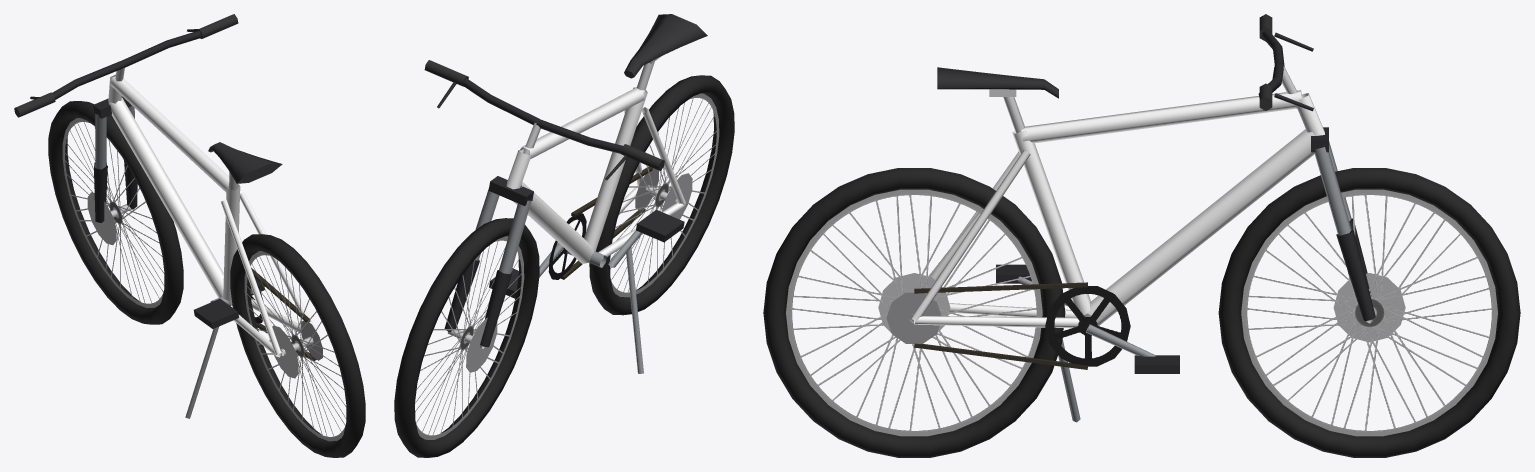
File: mtb_lean.glb
The picture shows the model from 3 angles, left to right: view 1: azimuth 30°, elevation 25°; view 2: azimuth 150°, elevation 25°; view 3: azimuth 270°, elevation 25°; orthographic projection. The views are drawn at different scales.
Parts seen in each view (by area): view 1: bike; view 2: bike; view 3: bike.
Boxes of the visible parts, bbox=[...] form: bike: bbox=[14, 14, 365, 457]; bike: bbox=[394, 14, 734, 457]; bike: bbox=[763, 14, 1520, 457].
Bounding box in the file's own units: 0.7049 × 0.9759 × 1.68.
Materials: 1 (1 with a texture image).
